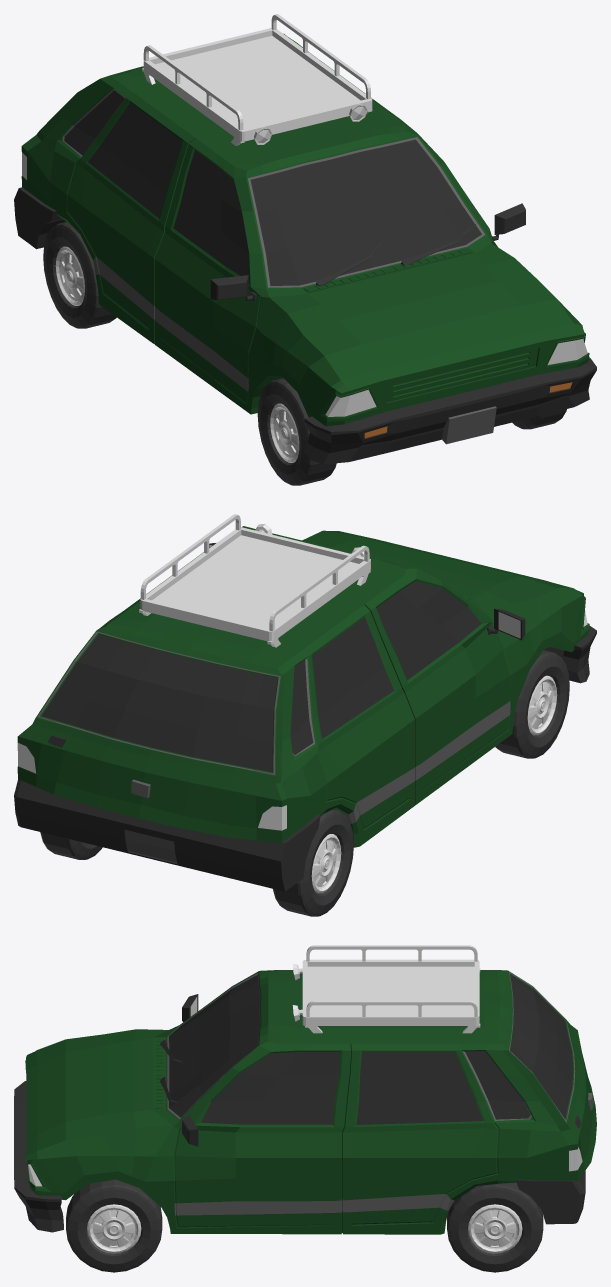
File: coche 1.fbx
The picture shows the model from 3 angles, top to bottom: view 1: azimuth 30°, elevation 25°; view 2: azimuth 150°, elevation 25°; view 3: azimuth 270°, elevation 25°; orthographic projection. The views are drawn at different scales.
Parts seen in each view (by area): view 1: car-body.011, Roofcarriage.001, car-body.010, tYRE.002, Front ac grill.002, roof.002, Cube.003, Mirror.002, Plate.002, Wiperbase.002; view 2: car-body.011, Roofcarriage.001, Cube.003, tYRE.002, roof.002, car-body.010, Mirror.002; view 3: car-body.011, tYRE.002, Roofcarriage.001, car-body.010, Cube.003, roof.002, Mirror.002, Wiperbase.002.
Part boxes in pixels (left/top/right/bottom): car-body.011: left=21, top=33, right=589, bottom=426; Roofcarriage.001: left=143, top=28, right=372, bottom=141; car-body.010: left=303, top=357, right=596, bottom=464; tYRE.002: left=43, top=221, right=566, bottom=485; Front ac grill.002: left=386, top=348, right=538, bottom=402; roof.002: left=143, top=14, right=370, bottom=130; Cube.003: left=14, top=187, right=65, bottom=249; Mirror.002: left=210, top=203, right=525, bottom=302; Plate.002: left=442, top=406, right=496, bottom=444; Wiperbase.002: left=303, top=248, right=472, bottom=292; car-body.011: left=17, top=526, right=589, bottom=847; Roofcarriage.001: left=140, top=527, right=370, bottom=641; Cube.003: left=14, top=779, right=320, bottom=891; tYRE.002: left=40, top=650, right=569, bottom=916; roof.002: left=140, top=514, right=369, bottom=631; car-body.010: left=543, top=625, right=596, bottom=683; Mirror.002: left=209, top=543, right=525, bottom=640; car-body.011: left=25, top=970, right=596, bottom=1234; tYRE.002: left=66, top=1179, right=543, bottom=1272; Roofcarriage.001: left=302, top=959, right=479, bottom=1025; car-body.010: left=14, top=1081, right=63, bottom=1232; Cube.003: left=515, top=1170, right=585, bottom=1224; roof.002: left=306, top=945, right=477, bottom=1016; Mirror.002: left=182, top=994, right=198, bottom=1146; Wiperbase.002: left=155, top=1037, right=163, bottom=1108.
Size of the model in its own units: 169 by 142 by 309.
